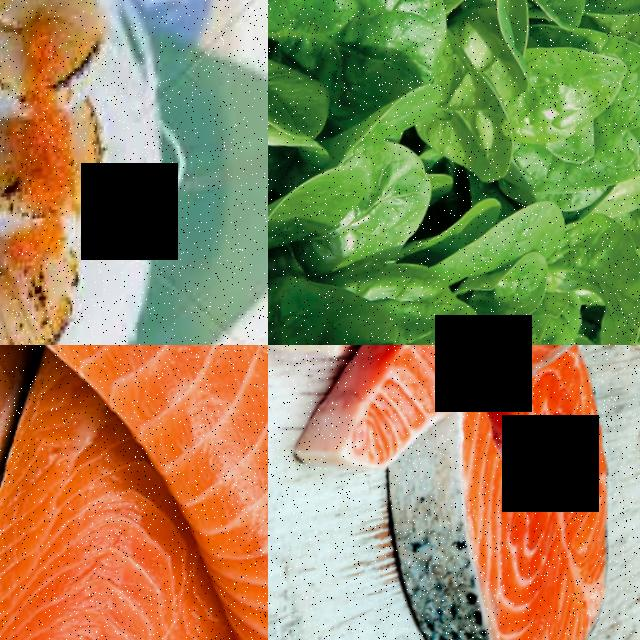salmon: (378, 395, 640, 640), (0, 491, 268, 640), (206, 345, 268, 640)
spinach: (315, 0, 457, 99), (528, 48, 633, 144), (268, 279, 412, 345), (529, 0, 593, 37)
